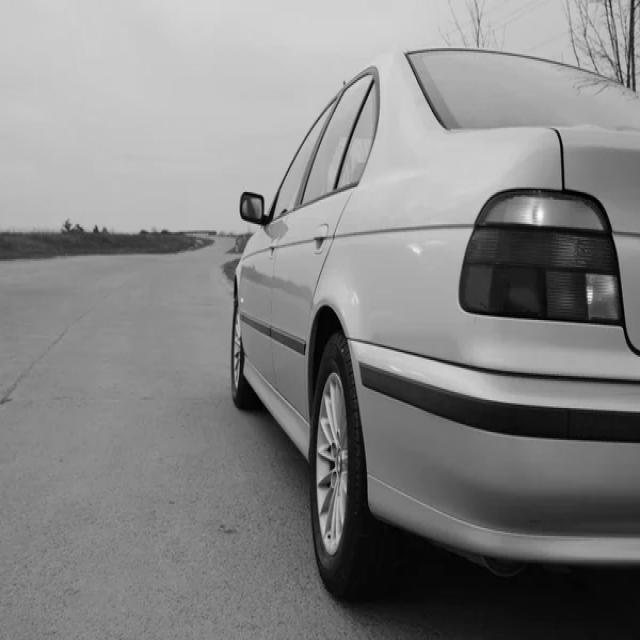Car: (231, 48, 640, 598)
